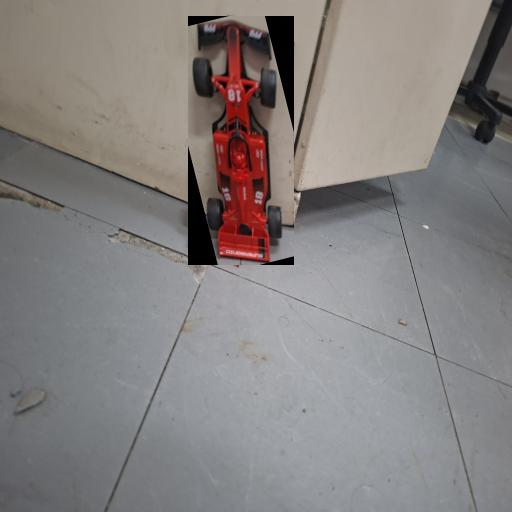carro: (189, 17, 293, 264)
